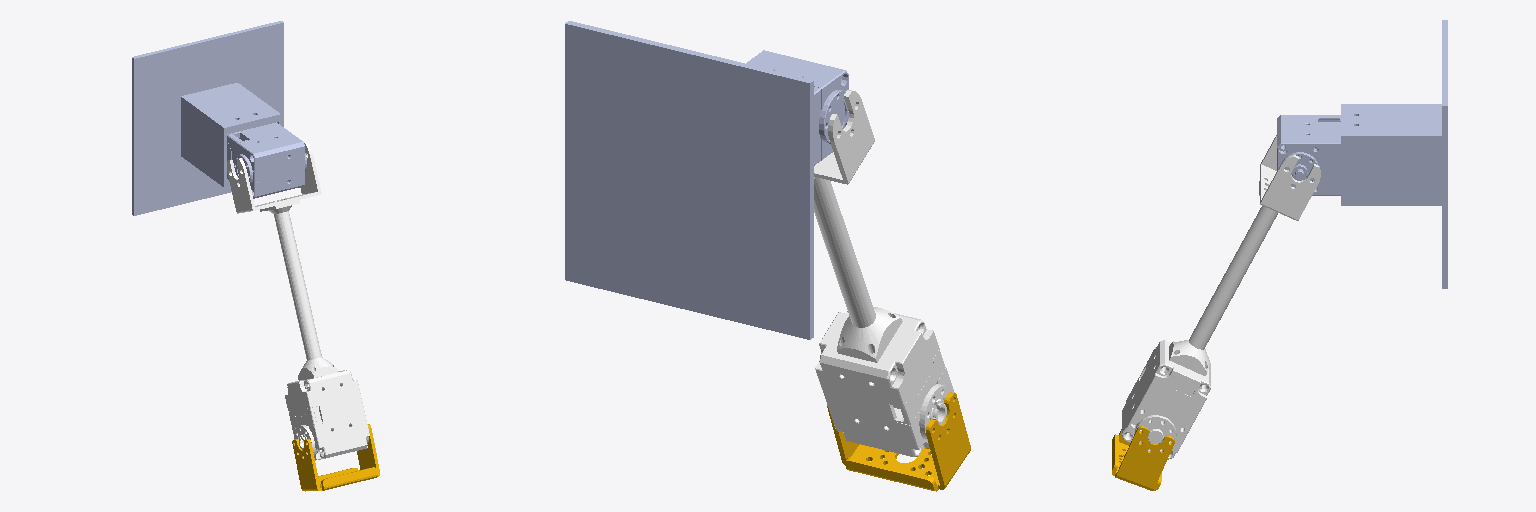
robot.urdf — mppi:
<?xml version="1.0" encoding="utf-8"?>
<!-- This URDF was automatically created by SolidWorks to URDF Exporter! Originally created by [author] ([email redacted]) 
     Commit Version: 1.6.0-4-g7f85cfe  Build Version: 1.6.7995.38578
     For more information, please see http://wiki.ros.org/sw_urdf_exporter -->
<robot
  name="mppi">
  <link
    name="base_link">
    <inertial>
      <origin
        xyz="0.00013417 -8.5434E-05 0.031159"
        rpy="0 0 0" />
      <mass
        value="0.12847" />
      <inertia
        ixx="6.0168E-05"
        ixy="-1.0156E-16"
        ixz="1.6017E-09"
        iyy="6.1157E-05"
        iyz="5.2439E-15"
        izz="7.1418E-05" />
    </inertial>
    <visual>
      <origin
        xyz="0 0 0"
        rpy="0 0 0" />
      <geometry>
        <mesh
          filename="package://mppi/meshes/base_link.stl" />
      </geometry>
      <material
        name="">
        <color
          rgba="0.79216 0.81961 0.93333 1" />
      </material>
    </visual>
    <collision>
      <origin
        xyz="0 0 0"
        rpy="0 0 0" />
      <geometry>
        <mesh
          filename="package://mppi/meshes/base_link.stl" />
      </geometry>
    </collision>
  </link>
  <link
    name="Link_1">
    <inertial>
      <origin
        xyz="0.00038335 6.7291E-06 -0.12912"
        rpy="0 0 0" />
      <mass
        value="0.054837" />
      <inertia
        ixx="2.1193E-05"
        ixy="-5.2444E-09"
        ixz="2.5549E-07"
        iyy="2.3318E-05"
        iyz="4.4105E-09"
        izz="7.973E-06" />
    </inertial>
    <visual>
      <origin
        xyz="0 0 0"
        rpy="0 0 0" />
      <geometry>
        <mesh
          filename="package://mppi/meshes/Link_1.stl" />
      </geometry>
      <material
        name="">
        <color
          rgba="1 1 1 1" />
      </material>
    </visual>
    <collision>
      <origin
        xyz="0 0 0"
        rpy="0 0 0" />
      <geometry>
        <mesh
          filename="package://mppi/meshes/Link_1.stl" />
      </geometry>
    </collision>
  </link>
  <joint
    name="Joint_1"
    type="continuous">
    <origin
      xyz="0 -0.0735 -0.00025"
      rpy="-0.45869 0 0" />
    <parent
      link="base_link" />
    <child
      link="Link_1" />
    <axis
      xyz="1 0 0" />
  </joint>
  <link
    name="Link_2">
    <inertial>
      <origin
        xyz="-5E-05 1.0408E-15 0.020374"
        rpy="0 0 0" />
      <mass
        value="0.0043785" />
      <inertia
        ixx="5.6602E-07"
        ixy="-4.0569E-21"
        ixz="-7.7508E-20"
        iyy="1.4685E-06"
        iyz="-5.3469E-21"
        izz="1.3899E-06" />
    </inertial>
    <visual>
      <origin
        xyz="0 0 0"
        rpy="0 0 0" />
      <geometry>
        <mesh
          filename="package://mppi/meshes/Link_2.stl" />
      </geometry>
      <material
        name="">
        <color
          rgba="1 0.75686 0.054902 1" />
      </material>
    </visual>
    <collision>
      <origin
        xyz="0 0 0"
        rpy="0 0 0" />
      <geometry>
        <mesh
          filename="package://mppi/meshes/Link_2.stl" />
      </geometry>
    </collision>
  </link>
  <joint
    name="Joint_2"
    type="continuous">
    <origin
      xyz="0 0 -0.1608"
      rpy="-3.0735 0 0" />
    <parent
      link="Link_1" />
    <child
      link="Link_2" />
    <axis
      xyz="1 0 0" />
  </joint>
</robot>

--- Facts derived from the render (not from the file) ---
The picture shows the robot from 3 angles, left to right: view 1: azimuth 30°, elevation 25°; view 2: azimuth 150°, elevation 25°; view 3: azimuth 270°, elevation 25°; orthographic projection.
Model mppi with 3 links and 2 joints (2 continuous), rooted at base_link, posed every joint at zero.
Visible links, largest first — view 1: base_link, Link_1, Link_2; view 2: base_link, Link_1, Link_2; view 3: base_link, Link_1, Link_2.
Boxes of the visible links, <box> form: base_link: <box>132,21,306,215</box>; Link_1: <box>227,142,369,460</box>; Link_2: <box>292,424,379,491</box>; base_link: <box>565,21,848,339</box>; Link_1: <box>814,90,954,456</box>; Link_2: <box>827,392,970,491</box>; base_link: <box>1277,20,1447,288</box>; Link_1: <box>1122,135,1320,459</box>; Link_2: <box>1112,426,1174,490</box>.
Size in the robot's own frame: 0.1 by 0.1665 by 0.2249 metres.
3 mesh visuals loaded from 3 distinct referenced files (3 binary STL).